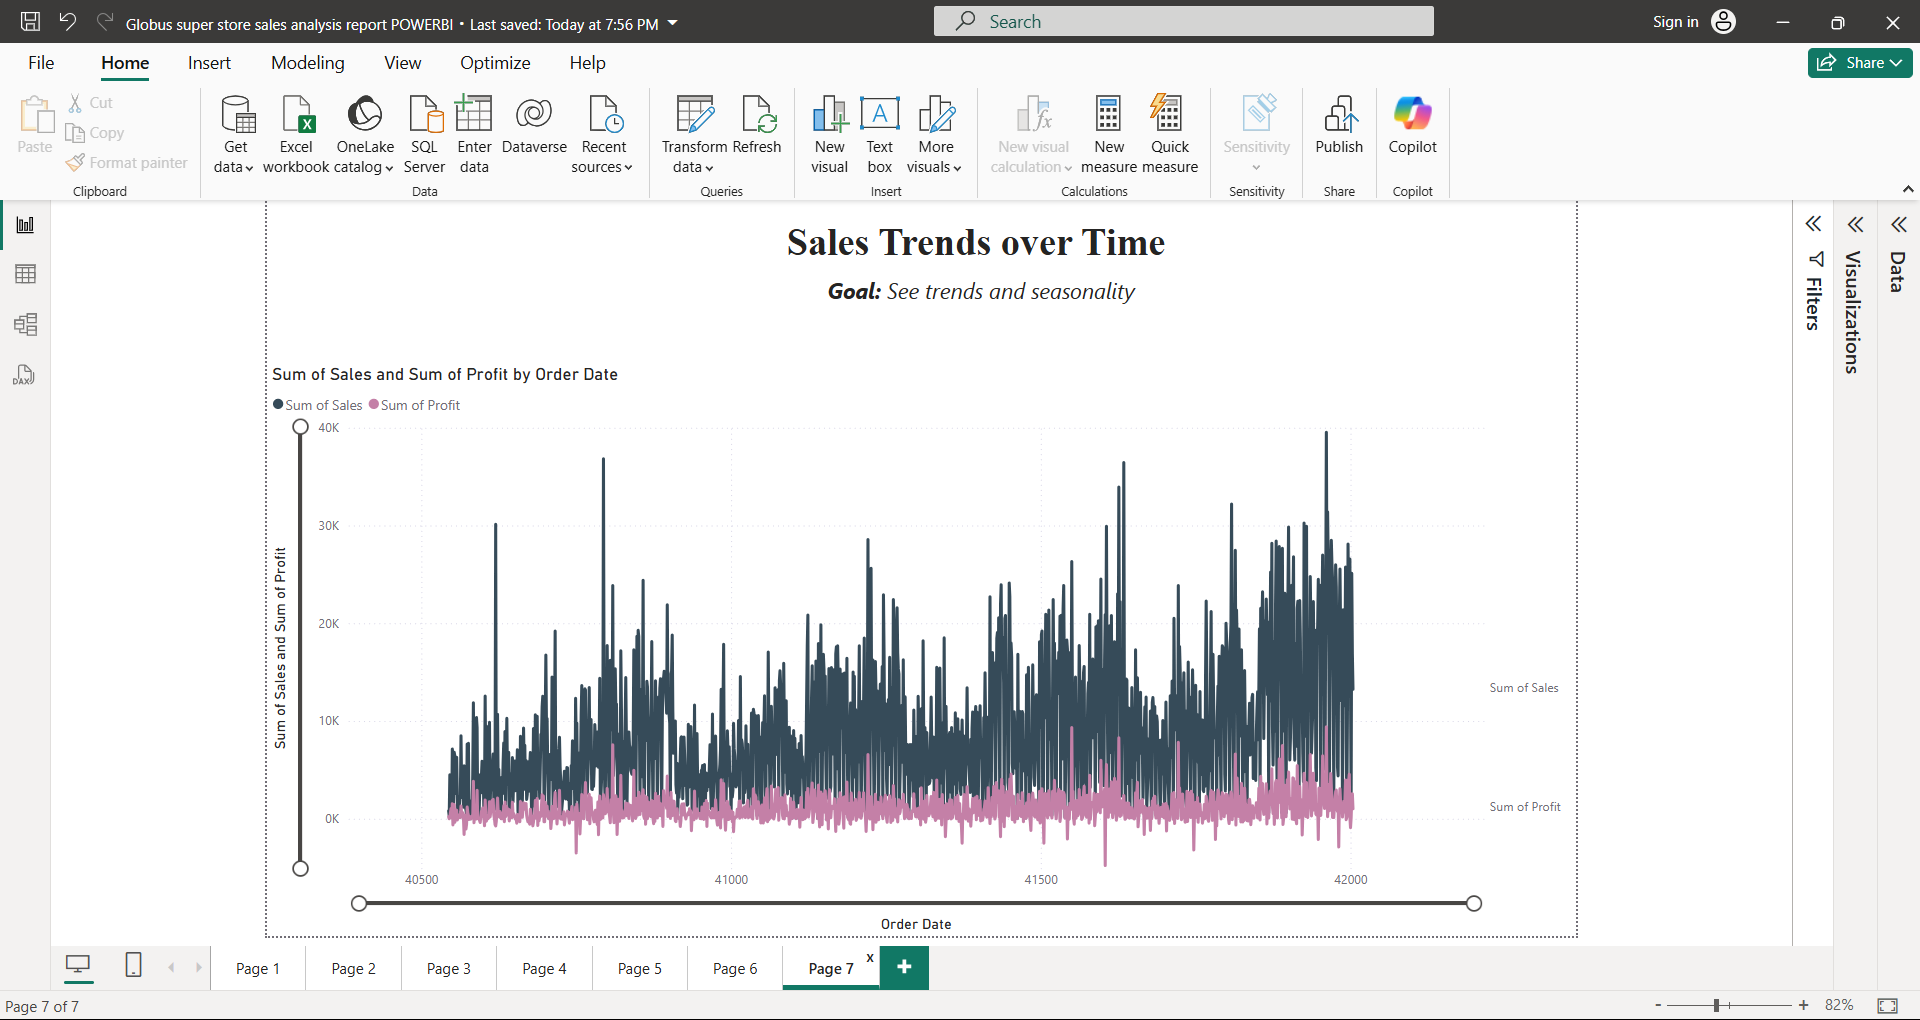

The dashboard page shown, as its layout file describes it:
{"tool":"powerbi","page":{"name":"Page 7","canvas":[1280,720],"ordinal":6},"visuals":[{"type":"lineChart","fields":{"Y":["Sum(Sheet1.Sales)","Sum(Sheet1.Profit)"],"Category":["Sheet1.Order Date"]},"box":[0,160.5,1280.3,559.9],"z":0},{"type":"textbox","box":[152.3,15.1,1081.3,78.2],"z":1},{"type":"textbox","box":[488.5,68.6,421.3,54.9],"z":2}]}

Visuals, with their boxes on the page's 1280x720 design canvas (x1, y1, x2, y2). These are canvas units, not pixel positions in the 1920x1020 screenshot, which may show the page scaled, cropped or inside an application window:
lineChart - Sum(Sheet1.Sales) x Sum(Sheet1.Profit): [0, 160, 1280, 720]
textbox: [152, 15, 1234, 93]
textbox: [488, 69, 910, 124]
